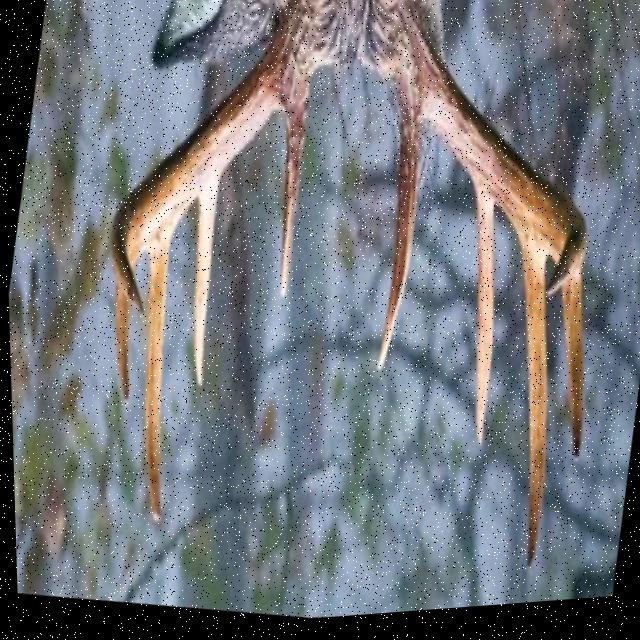L-F: (397, 26, 584, 308)
L-G1: (374, 92, 422, 378)
L-G2: (471, 187, 493, 455)
L-G3: (514, 241, 545, 576)
L-G4: (559, 268, 582, 469)
R-F: (108, 12, 310, 323)
R-G1: (277, 82, 308, 303)
R-G2: (191, 179, 218, 388)
R-G3: (140, 230, 170, 526)
